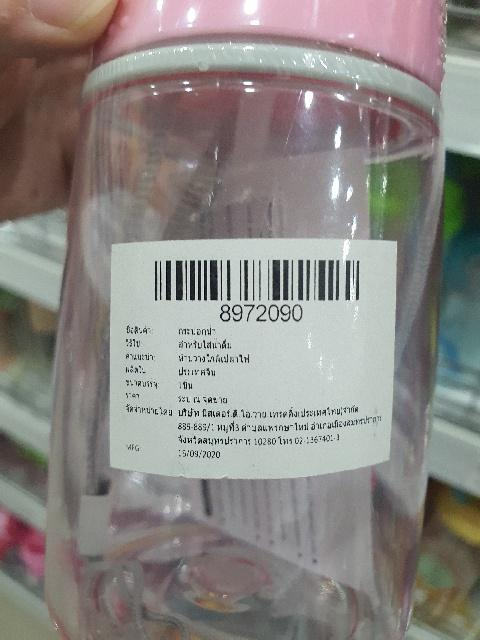Barcode: (145, 250, 369, 323)
